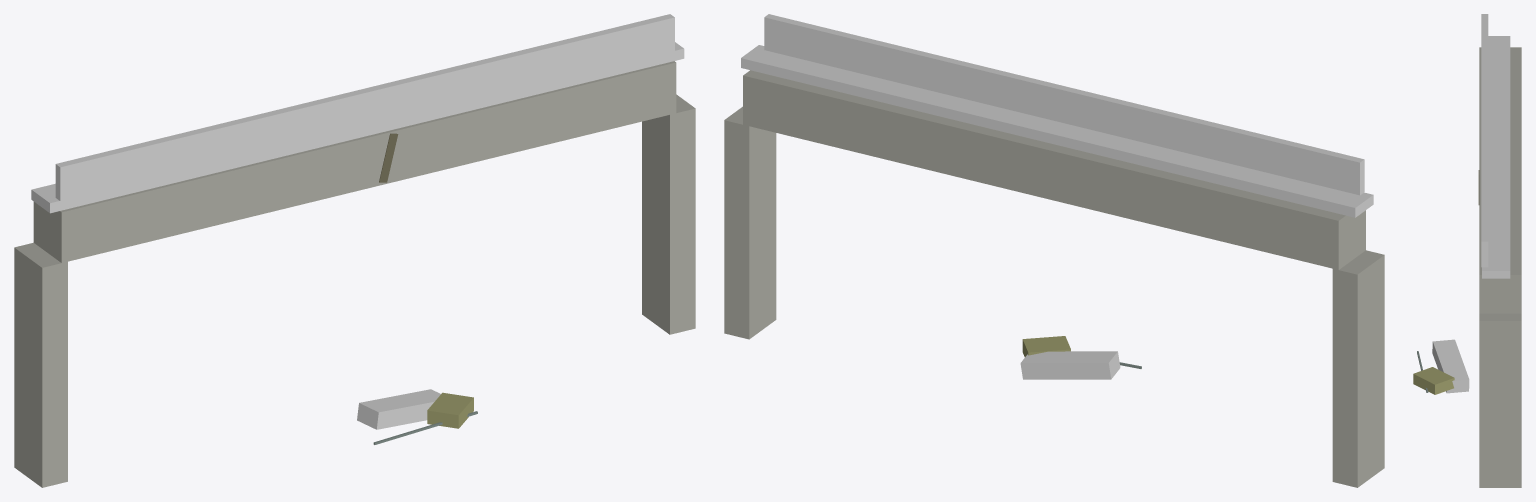
The model's file is SM_MuroTrinchera_Boca_v3_Agrietado_LOD0.fbx.
3 renders of one model, left to right at view 1: azimuth 30°, elevation 25°; view 2: azimuth 150°, elevation 25°; view 3: azimuth 270°, elevation 25°, orthographic. The views are drawn at different scales.
Visible parts, largest first — view 1: SM_muro_trinchera_v8_LOD0; view 2: SM_muro_trinchera_v8_LOD0; view 3: SM_muro_trinchera_v8_LOD0.
Part boxes in pixels (box(x1,y1,x2,y2)): SM_muro_trinchera_v8_LOD0: box(14, 14, 695, 487); SM_muro_trinchera_v8_LOD0: box(724, 14, 1384, 487); SM_muro_trinchera_v8_LOD0: box(1413, 14, 1521, 487).
Size of the model in its own units: 20.2 by 9.49 by 3.83.
